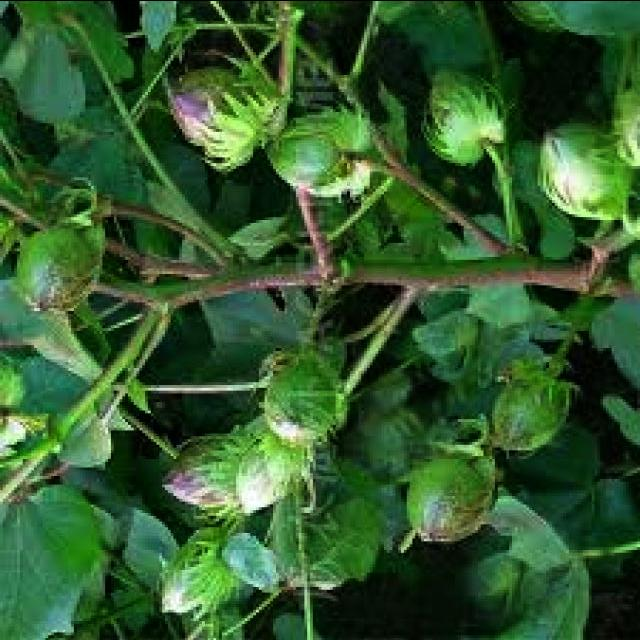Early Boll: (163, 53, 265, 164), (528, 116, 640, 216), (392, 449, 498, 549), (414, 57, 511, 162), (7, 213, 107, 313), (253, 347, 347, 447), (476, 362, 568, 462), (268, 105, 374, 191), (155, 520, 237, 621), (148, 420, 238, 512), (216, 439, 302, 517), (599, 25, 640, 164)
